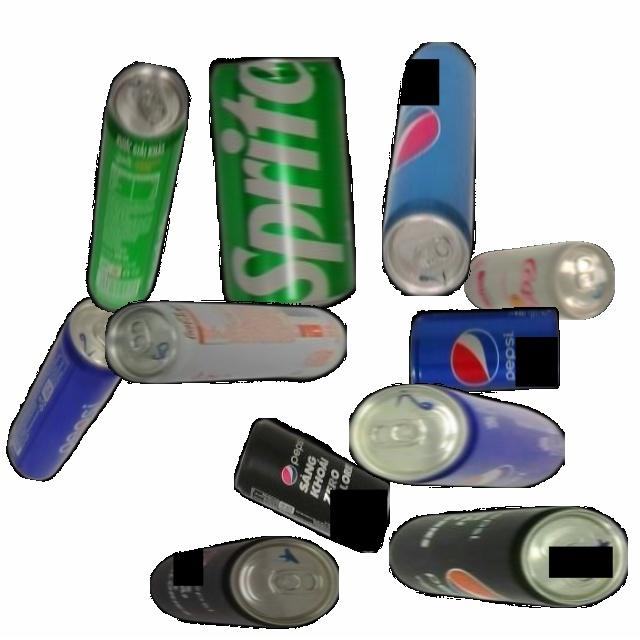debris: (208, 57, 356, 312), (70, 58, 197, 319), (2, 288, 142, 493), (388, 506, 628, 608), (381, 41, 476, 296), (349, 382, 565, 488), (233, 417, 390, 553), (105, 299, 347, 384), (149, 536, 339, 629), (408, 306, 560, 394), (463, 241, 615, 320)
